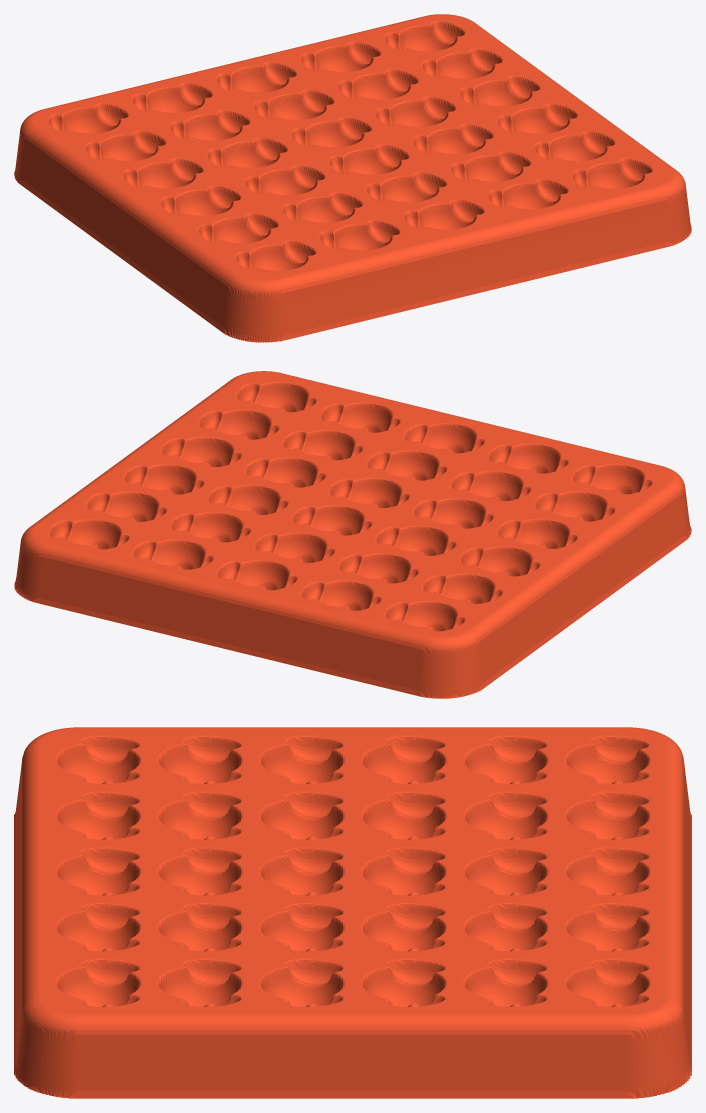
Rendered from mold.glb.
The picture shows the model from 3 angles, top to bottom: view 1: azimuth 30°, elevation 25°; view 2: azimuth 150°, elevation 25°; view 3: azimuth 270°, elevation 25°; orthographic projection. The views are drawn at different scales.
Parts seen in each view (by area): view 1: geometry_0; view 2: geometry_0; view 3: geometry_0.
Part boxes in pixels (x1,y1,x2,y2): geometry_0: (14, 14, 691, 342); geometry_0: (14, 371, 691, 698); geometry_0: (14, 727, 691, 1098).
Bounding box in the file's own units: 0.1015 × 0.0113 × 0.0947.
